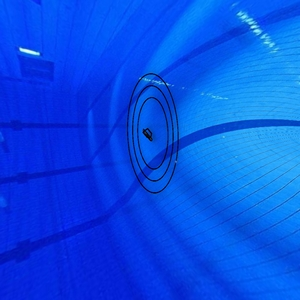circle: (122, 70, 189, 197)
submarine: (142, 124, 155, 152)
